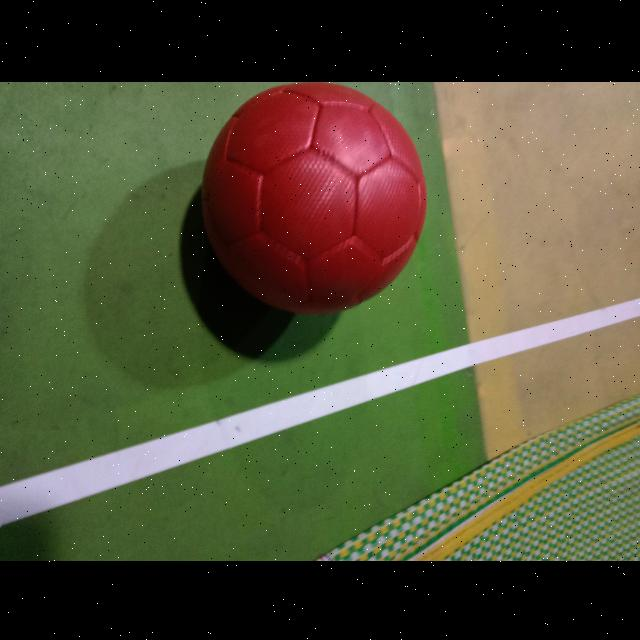R: (200, 81, 426, 313)
